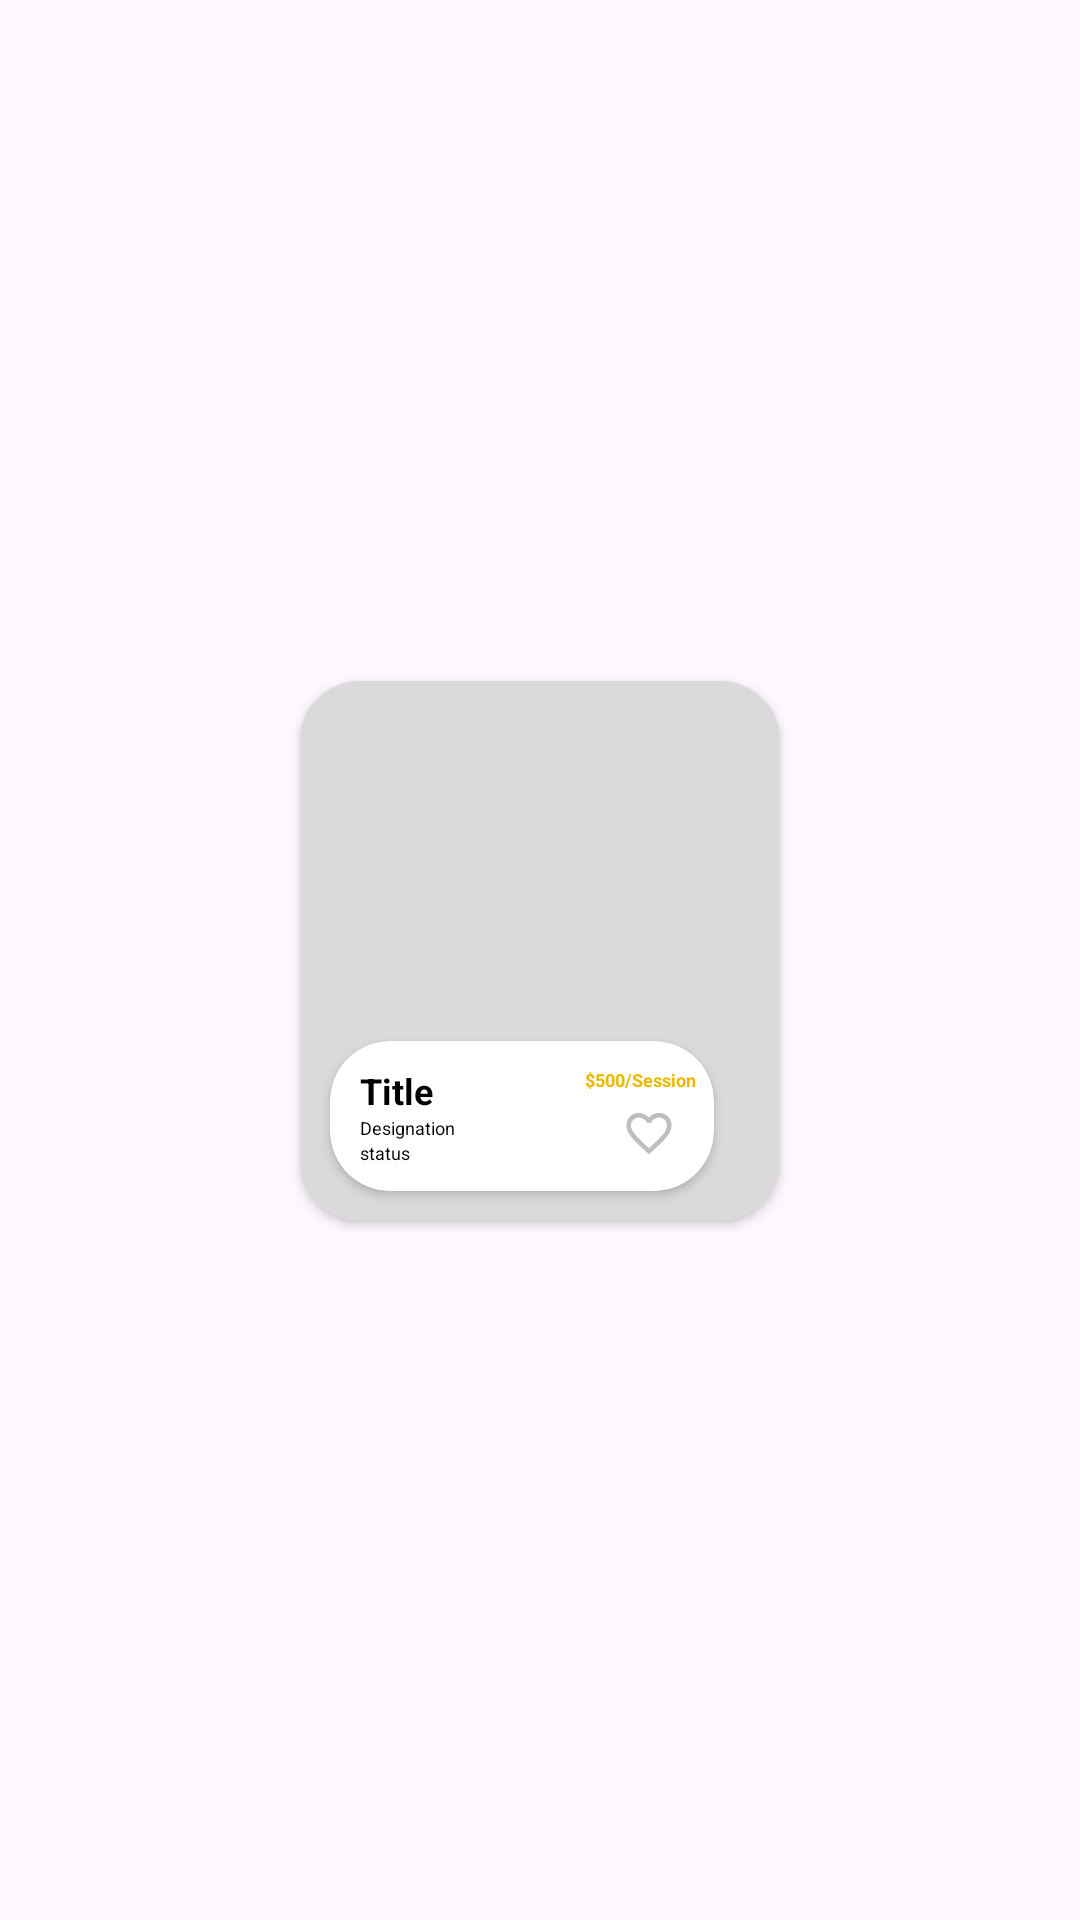

Named icons in this screenshot (1080w x 1920h) and their bounding boxes, (x1, y1, x2, y2):
heart unfilled: (626, 1113, 672, 1154)
